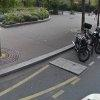Motorcycle: (69, 19, 100, 66)
